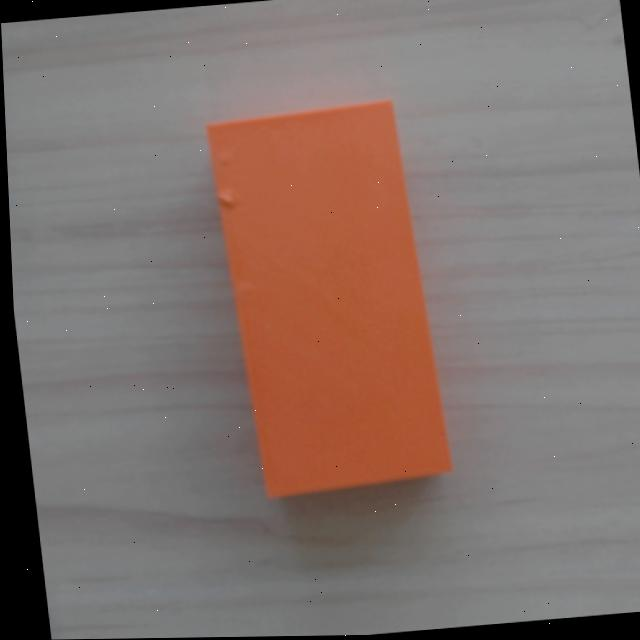Balok-Jingga-1005025: (203, 93, 452, 502)
